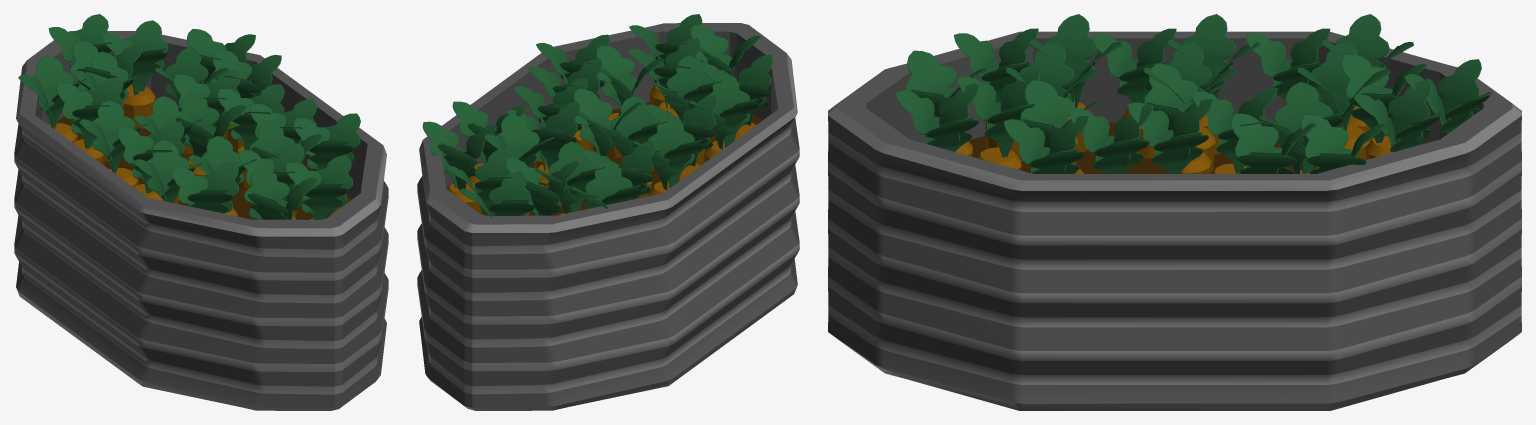
The model's file is barn.fbx.
3 renders of one model, left to right at view 1: azimuth 30°, elevation 25°; view 2: azimuth 150°, elevation 25°; view 3: azimuth 270°, elevation 25°, orthographic. The views are drawn at different scales.
Parts seen in each view (by area): view 1: pCube4898, pCube4953, pCube4917, pCube4934, pCube4958, pCube4906, pCube4895, pCube4902, pCube4889, pCube4919, pCube4931, pCube4923 (+45 smaller); view 2: pCube4898, pCube4952, pCube4894, pCube4955, pCube4943, pCube4924, pCube4939, pCube4933, pCube4929, pCube4920, pCube4890, pCube4950 (+43 smaller); view 3: pCube4898, pCube4935, pCube4915, pCube4951, pCube4918, pCube4893, pCube4960, pCube4922, pCube4900, pCube4948, pCube4957, pCube4949 (+38 smaller).
Boxes of the visible parts, bbox=[...] form: pCube4898: bbox=[14, 31, 388, 410]; pCube4953: bbox=[92, 100, 135, 171]; pCube4917: bbox=[244, 166, 289, 219]; pCube4934: bbox=[146, 140, 190, 202]; pCube4958: bbox=[31, 55, 74, 126]; pCube4906: bbox=[301, 183, 348, 219]; pCube4895: bbox=[164, 46, 208, 103]; pCube4902: bbox=[180, 91, 219, 155]; pCube4889: bbox=[126, 20, 168, 91]; pCube4919: bbox=[316, 155, 353, 218]; pCube4931: bbox=[56, 82, 93, 146]; pCube4923: bbox=[117, 127, 153, 191]; pCube4898: bbox=[417, 23, 799, 410]; pCube4952: bbox=[596, 45, 637, 110]; pCube4894: bbox=[573, 88, 612, 155]; pCube4955: bbox=[648, 114, 694, 184]; pCube4943: bbox=[496, 114, 539, 164]; pCube4924: bbox=[584, 159, 632, 204]; pCube4939: bbox=[666, 55, 714, 100]; pCube4933: bbox=[704, 73, 750, 143]; pCube4929: bbox=[610, 96, 658, 141]; pCube4920: bbox=[690, 25, 732, 81]; pCube4890: bbox=[489, 170, 531, 215]; pCube4950: bbox=[422, 121, 462, 187]; pCube4898: bbox=[828, 31, 1521, 410]; pCube4935: bbox=[1043, 14, 1097, 102]; pCube4915: bbox=[1181, 14, 1235, 94]; pCube4951: bbox=[1020, 80, 1074, 128]; pCube4918: bbox=[905, 50, 956, 96]; pCube4893: bbox=[1144, 63, 1198, 111]; pCube4960: bbox=[1273, 82, 1333, 172]; pCube4922: bbox=[1311, 41, 1357, 127]; pCube4900: bbox=[1438, 59, 1481, 121]; pCube4948: bbox=[1388, 79, 1431, 144]; pCube4957: bbox=[1334, 14, 1389, 69]; pCube4949: bbox=[1231, 113, 1282, 167].
Size of the model in its own units: 108 by 84.63 by 207.
